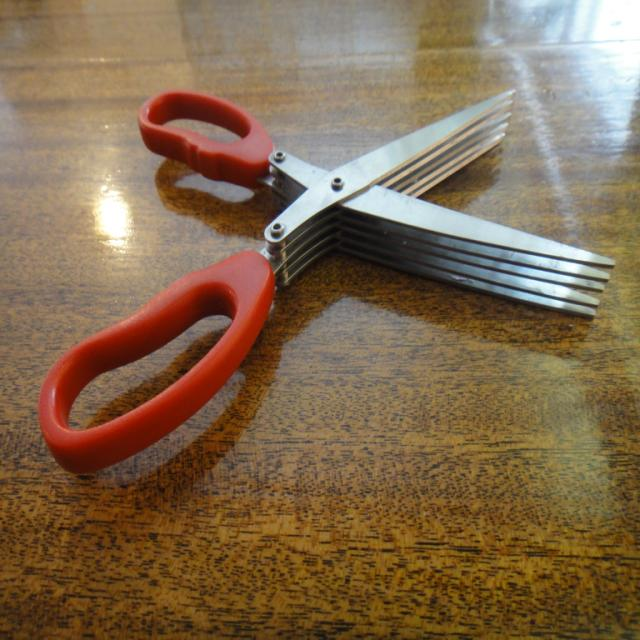scissors: (37, 86, 615, 474)
